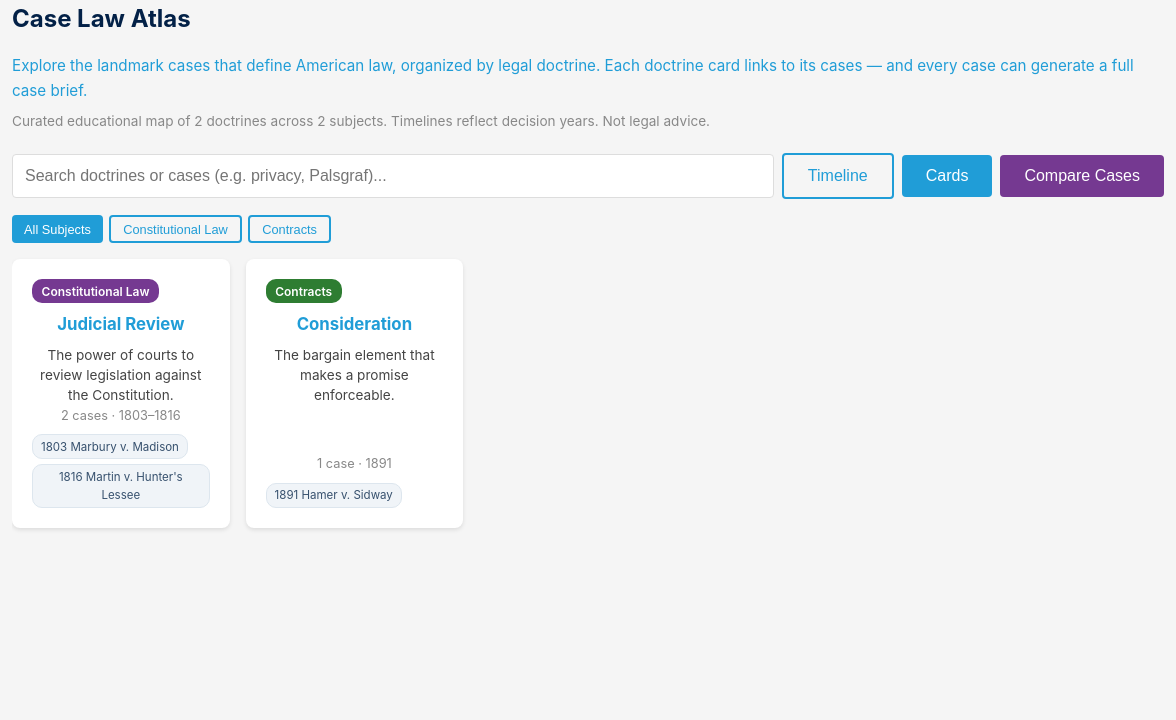
Test: DoctrineExplorerView › scopes the compare picker to the current search instead of the full list
Type "Marbury vs Madison" into the field with placeholder "Search doctrines or cases (e.g. privacy, Palsgraf)..." at (393, 176), box x1=12 y1=154 x2=774 y2=198
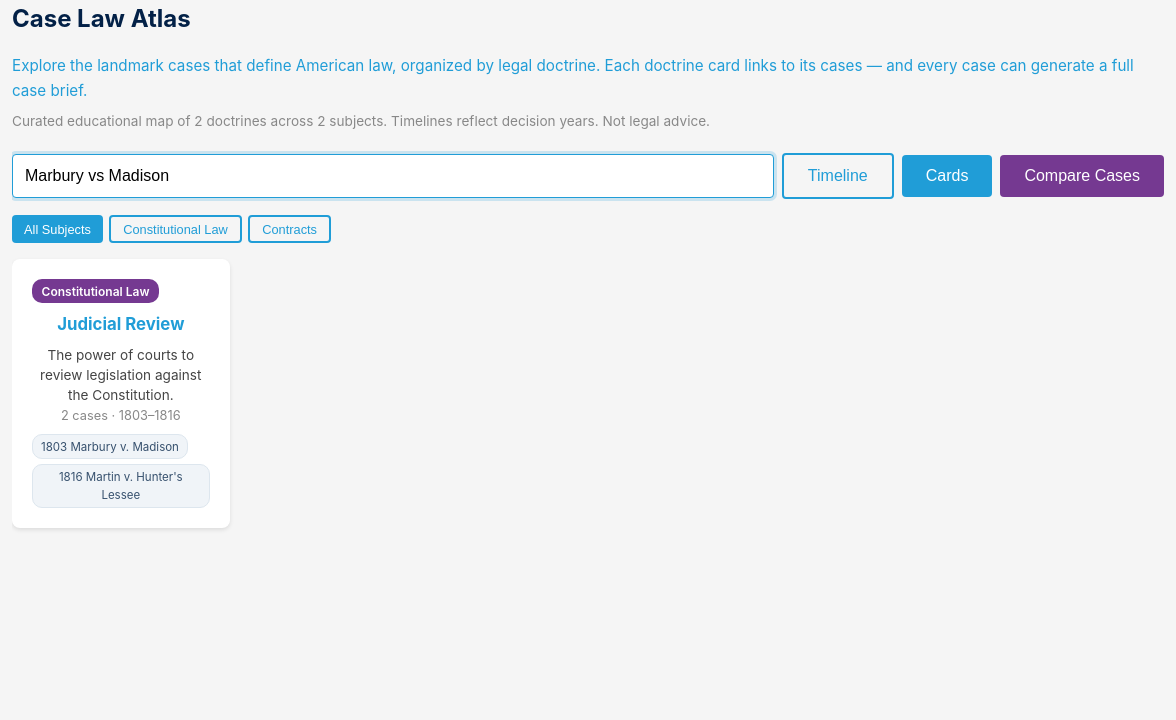
Click the button "Compare Cases" at (1082, 176), box x1=1000 y1=155 x2=1164 y2=197
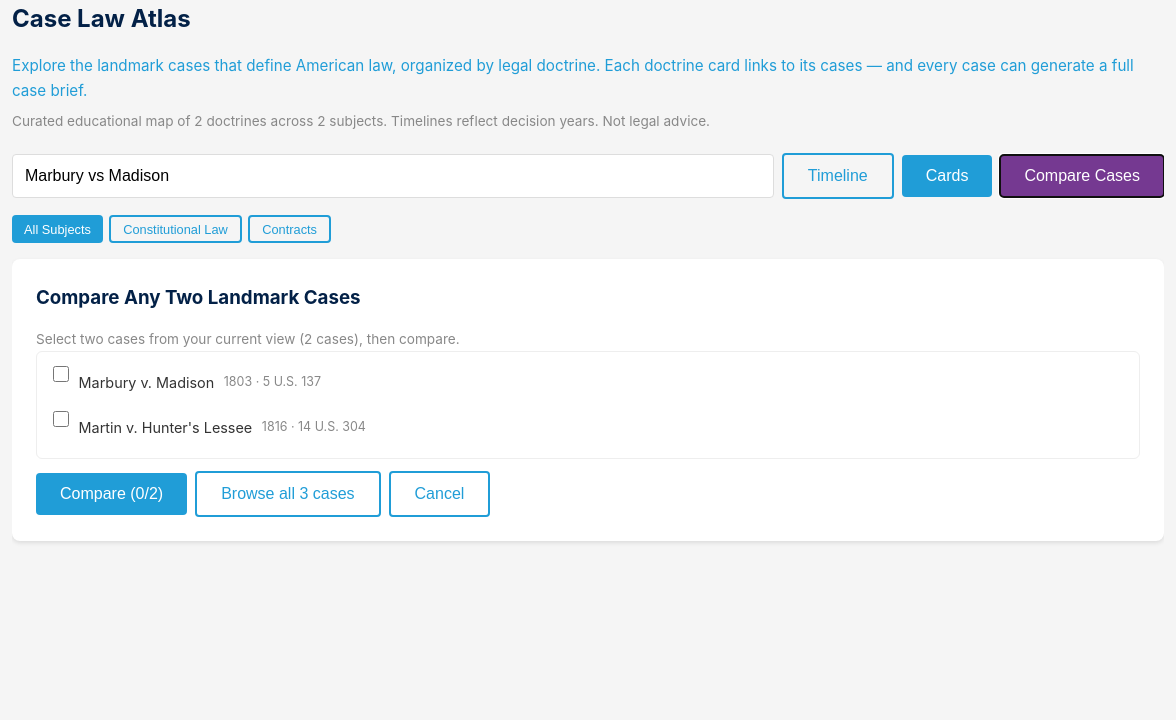
Expected: the text labelled "Hamer v. Sidway" is not shown
Result: the heading "Compare Any Two Landmark Cases" is shown at x1=36 y1=286 x2=360 y2=309
Result: the checkbox labelled "Marbury v. Madison 1803 · 5 U.S. 137" is shown at x1=53 y1=366 x2=69 y2=382
